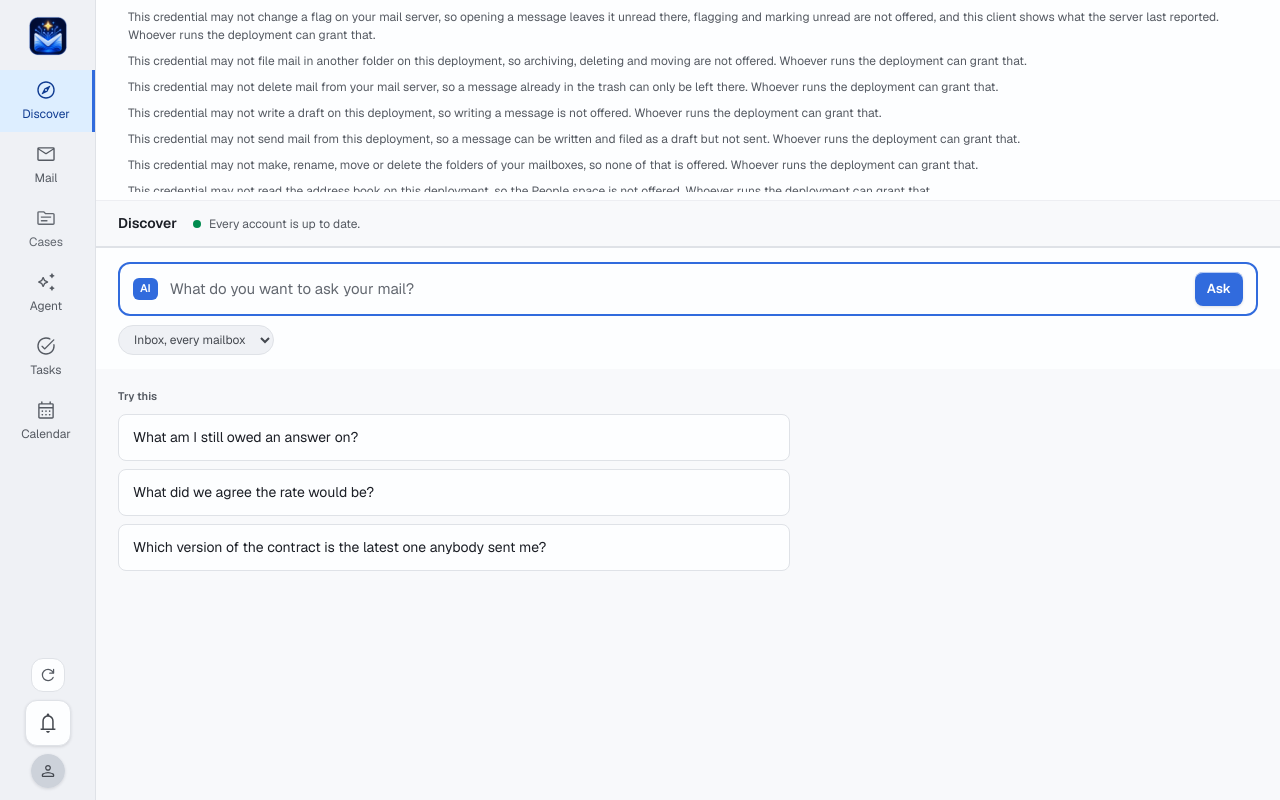
App › draws the sender own markup in the reading column where the person works in tabs
Expected: the heading "Every account is up to date." is shown, [193,214,360,232]
Step 1. Click the link "Mail" → click(46, 164), box [34,143,57,186]
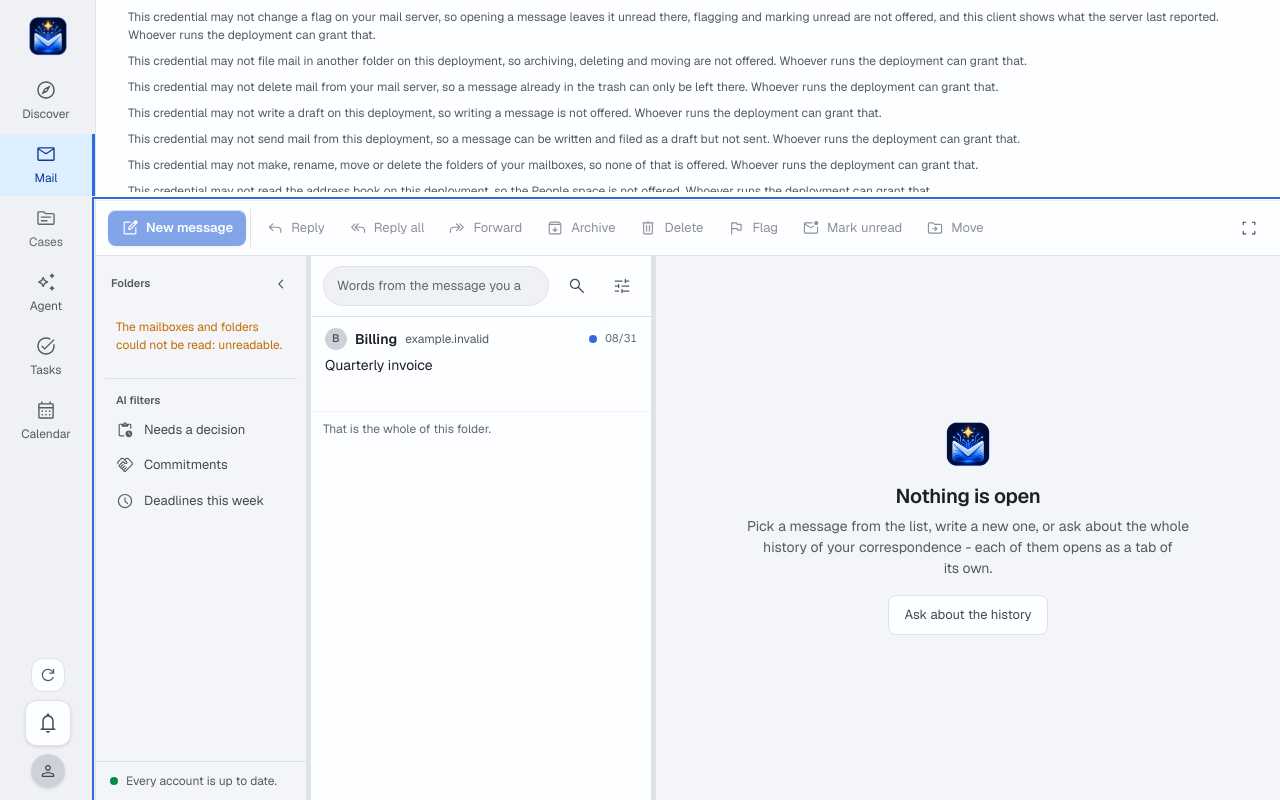
Expected: the element named "Mail" is shown
Step 2. Press the mouse on the option "B Billing example.invalid 08/31 Quarterly invoice" → (481, 364), box [311,316,651,412]
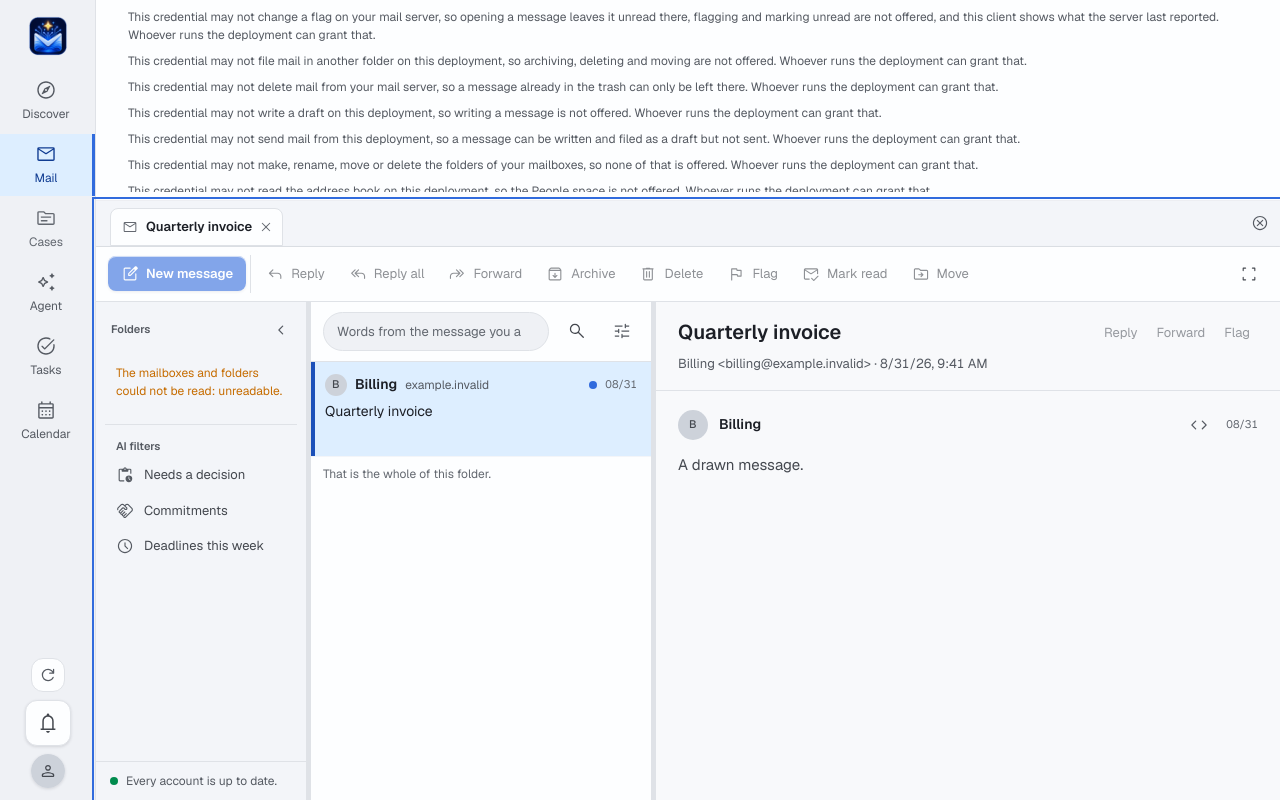
Step 3. Click the button named "Show the original message" → click(1199, 424), box [1183,408,1215,440]
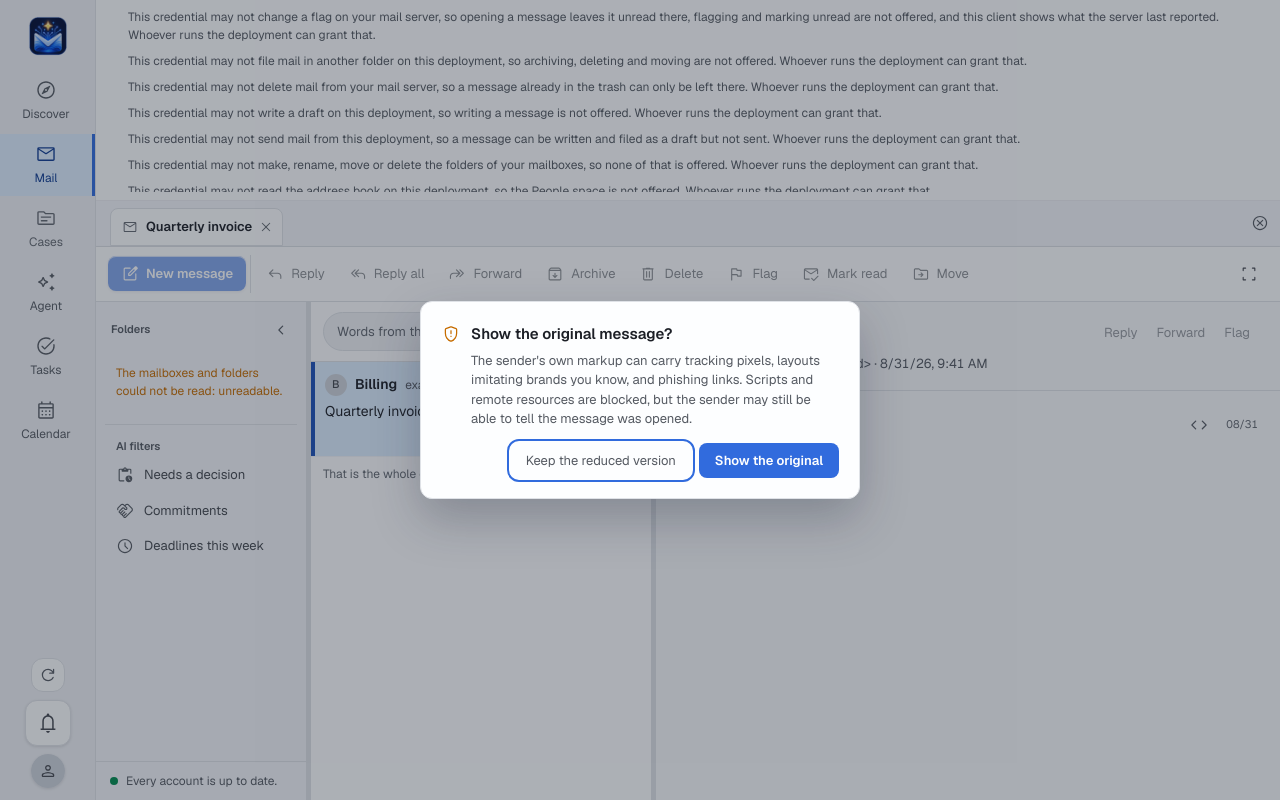
Step 4. Click the button "Show the original" → click(769, 461), box [699,443,839,478]
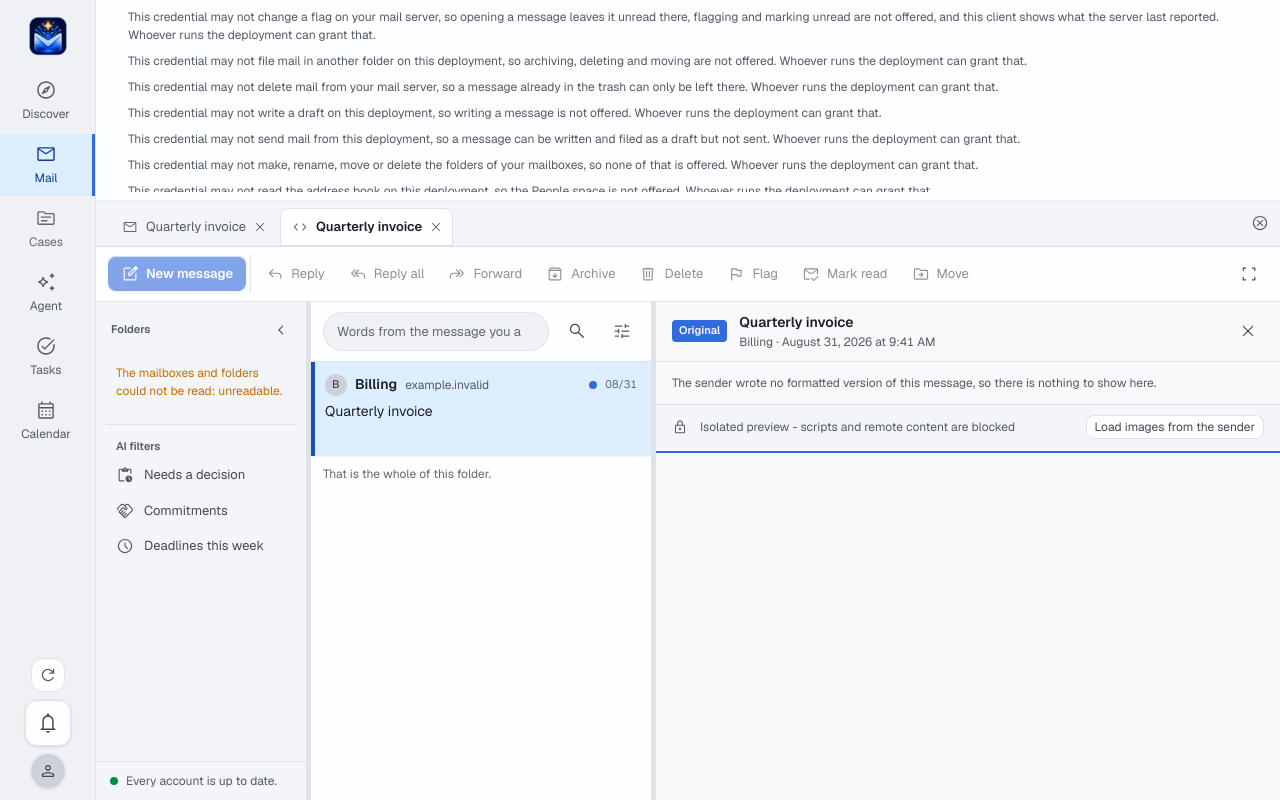
Expected: the element named "The original message, as its sender wrote it" is shown, [656,302,1279,448]
Expected: the dialog is gone
Expected: the text "A drawn message." is gone
